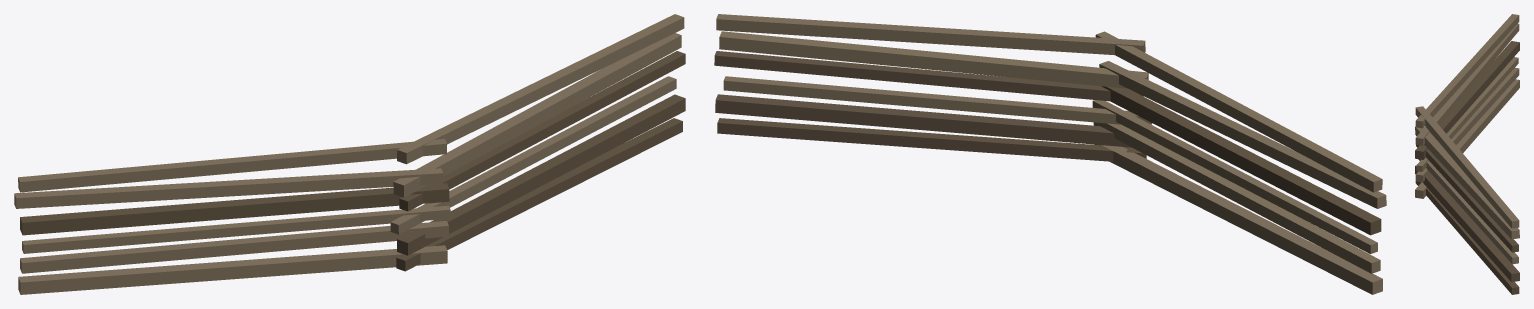
The model's file is worm_a.glb.
3 views of the same model, side by side, from view 1: azimuth 30°, elevation 25°; view 2: azimuth 150°, elevation 25°; view 3: azimuth 270°, elevation 25° (orthographic). The views are drawn at different scales.
Parts seen in each view (by area): view 1: worm_a; view 2: worm_a; view 3: worm_a.
Boxes of the visible parts, x1,y1,x2,y2 form: worm_a: (14,14,685,294); worm_a: (714,14,1386,294); worm_a: (1415,14,1519,294).
Bounding box in the file's own units: 6.59 × 1.13 × 1.39.
